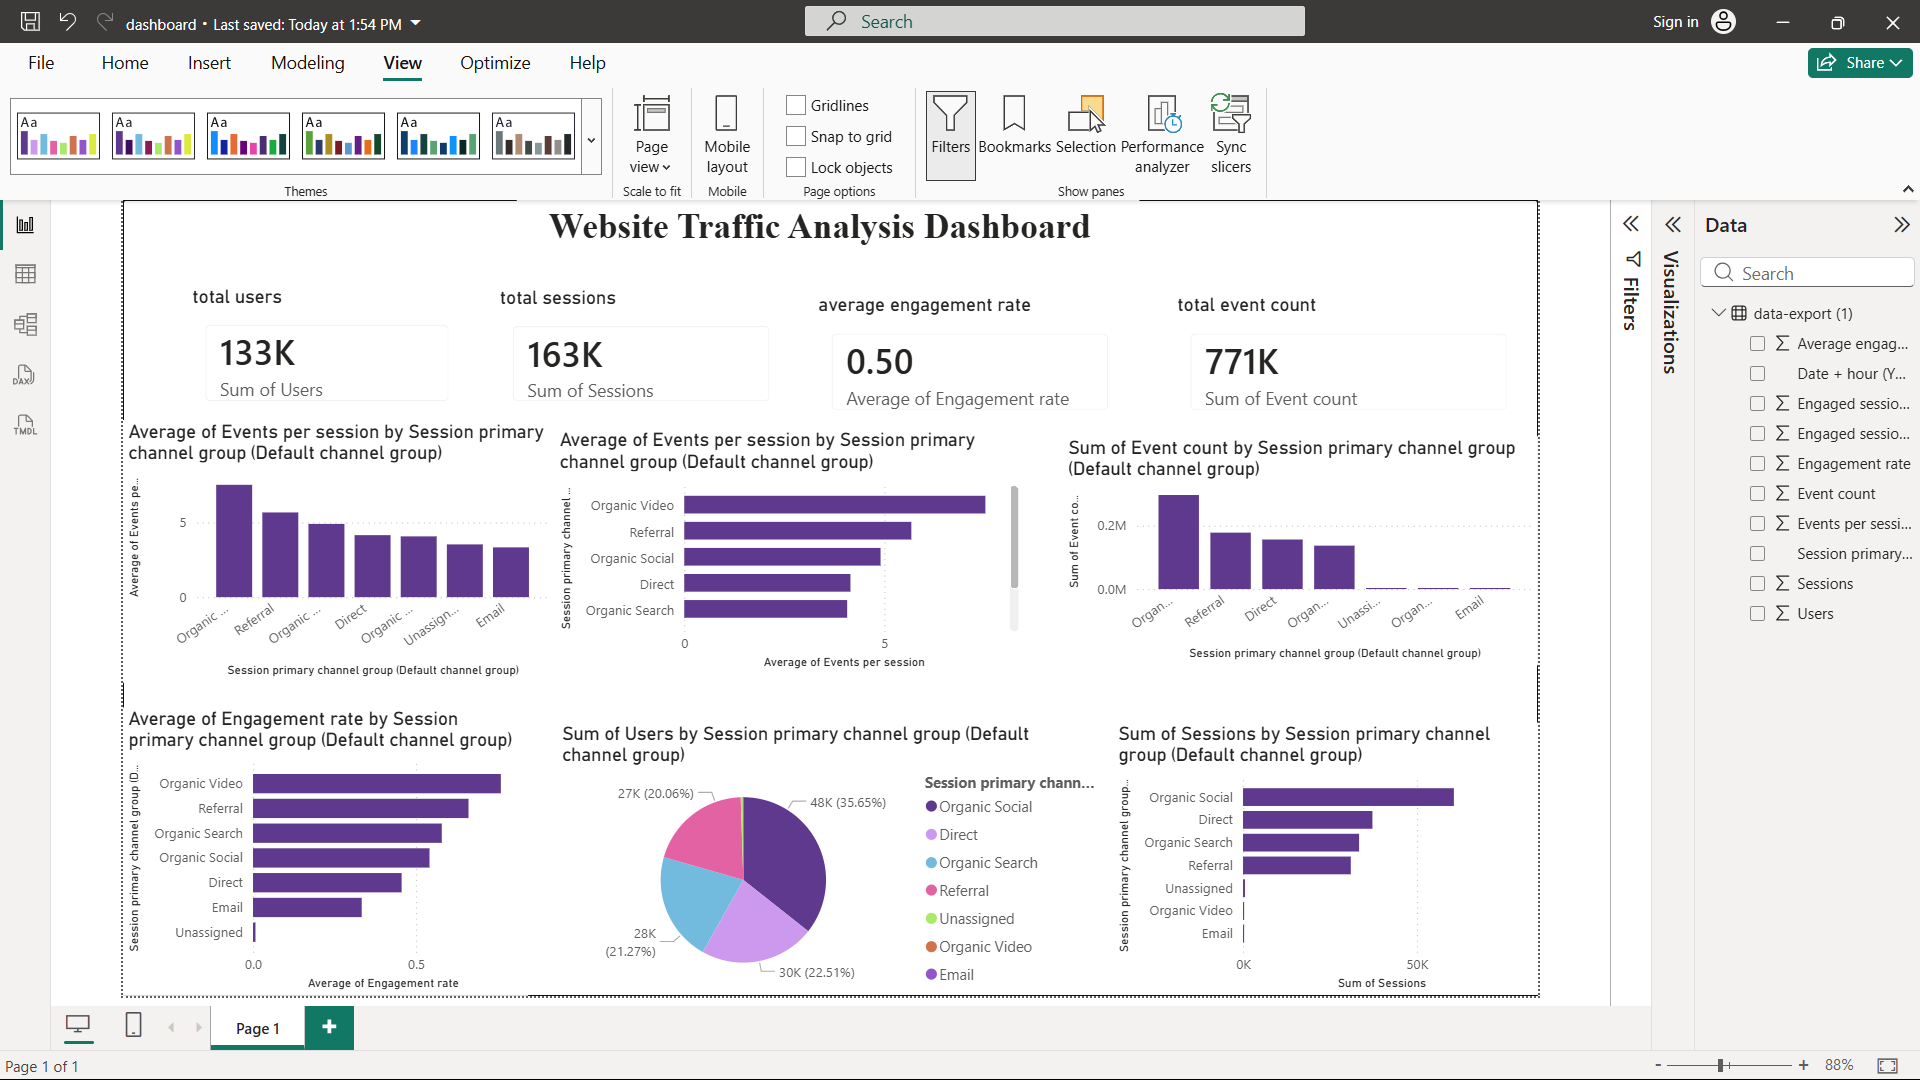

Layout of this report page (visuals, bound fields, positions):
{"tool":"powerbi","page":{"name":"Page 1","canvas":[1280,720],"ordinal":0},"visuals":[{"type":"cardVisual","title":"total users","fields":{"Data":["Sum(data-export (1).Users)"]},"box":[57.3,76.4,255,122.7],"z":0},{"type":"cardVisual","title":"total sessions","fields":{"Data":["Sum(data-export (1).Sessions)"]},"box":[335.8,78,266.8,122.1],"z":1000},{"type":"cardVisual","title":"total event count","fields":{"Data":["Sum(data-export (1).Event count)"]},"box":[949,84.5,320.4,122.7],"z":2000},{"type":"cardVisual","title":"average engagement rate","fields":{"Data":["Avg(data-export (1).Engagement rate)"]},"box":[624.5,84.5,285,122.7],"z":3000},{"type":"clusteredBarChart","fields":{"Y":["Sum(data-export (1).Sessions)"],"Category":["data-export (1).Session primary channel group (Default channel group)"]},"box":[895.8,473.1,384.5,246.8],"z":4000},{"type":"pieChart","fields":{"Category":["data-export (1).Session primary channel group (Default channel group)"],"Y":["Sum(data-export (1).Users)"]},"box":[392.7,473.1,494.9,246.8],"z":5000},{"type":"clusteredColumnChart","fields":{"Category":["data-export (1).Session primary channel group (Default channel group)"],"Y":["Sum(data-export (1).Event count)"]},"box":[850.8,214.1,429.5,207.2],"z":6000},{"type":"clusteredBarChart","fields":{"Category":["data-export (1).Session primary channel group (Default channel group)"],"Y":["Avg(data-export (1).Engagement rate)"]},"box":[0,459.5,366.8,260.4],"z":7000},{"type":"clusteredColumnChart","fields":{"Category":["data-export (1).Session primary channel group (Default channel group)"],"Y":["Avg(data-export (1).Events per session)"]},"box":[0,199.1,389.9,237.2],"z":8000},{"type":"clusteredBarChart","fields":{"Category":["data-export (1).Session primary channel group (Default channel group)"],"Y":["Avg(data-export (1).Events per session)"]},"box":[389.9,207.2,425.4,222.2],"z":9000},{"type":"textbox","box":[355.9,0,563.1,61.4],"z":10000}]}

Visuals, with their boxes on the page's 1280x720 design canvas (x1, y1, x2, y2). These are canvas units, not pixel positions in the 1920x1080 screenshot, which may show the page scaled, cropped or inside an application window:
"total users" cardVisual: box=[57, 76, 312, 199]
"total sessions" cardVisual: box=[336, 78, 603, 200]
"total event count" cardVisual: box=[949, 84, 1269, 207]
"average engagement rate" cardVisual: box=[624, 84, 910, 207]
clusteredBarChart - Sum(data-export (1).Sessions) x data-export (1).Session primary channel group (Default channel group): box=[896, 473, 1280, 720]
pieChart - data-export (1).Session primary channel group (Default channel group) x Sum(data-export (1).Users): box=[393, 473, 888, 720]
clusteredColumnChart - data-export (1).Session primary channel group (Default channel group) x Sum(data-export (1).Event count): box=[851, 214, 1280, 421]
clusteredBarChart - data-export (1).Session primary channel group (Default channel group) x Avg(data-export (1).Engagement rate): box=[0, 460, 367, 720]
clusteredColumnChart - data-export (1).Session primary channel group (Default channel group) x Avg(data-export (1).Events per session): box=[0, 199, 390, 436]
clusteredBarChart - data-export (1).Session primary channel group (Default channel group) x Avg(data-export (1).Events per session): box=[390, 207, 815, 429]
textbox: box=[356, 0, 919, 61]
